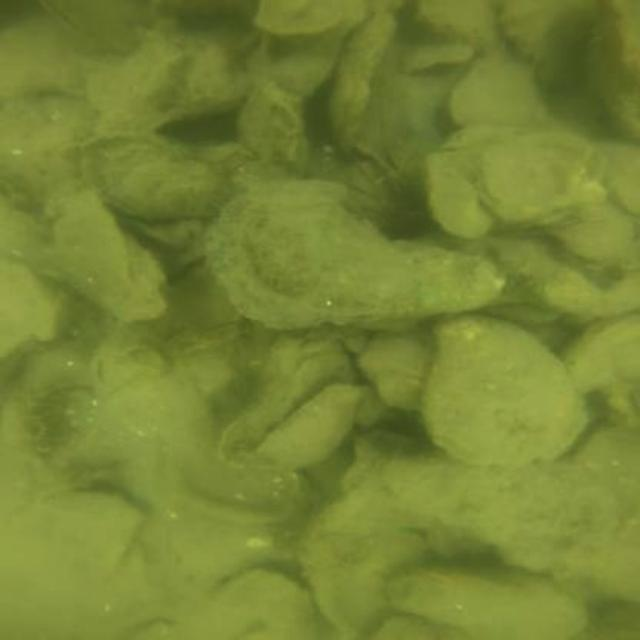Oyster-Closed: (324, 456, 638, 596), (204, 182, 499, 327), (422, 315, 582, 468), (222, 335, 362, 471), (393, 565, 603, 640), (90, 40, 248, 135), (44, 192, 164, 317), (159, 439, 308, 524), (78, 136, 225, 217), (476, 130, 598, 227), (261, 385, 356, 468), (586, 0, 639, 142), (215, 569, 320, 637), (446, 56, 543, 127), (0, 260, 55, 358), (568, 316, 636, 395), (428, 154, 489, 238), (425, 2, 506, 47), (250, 2, 350, 38), (559, 214, 632, 263)
Oyster-Open: (403, 45, 483, 80)
